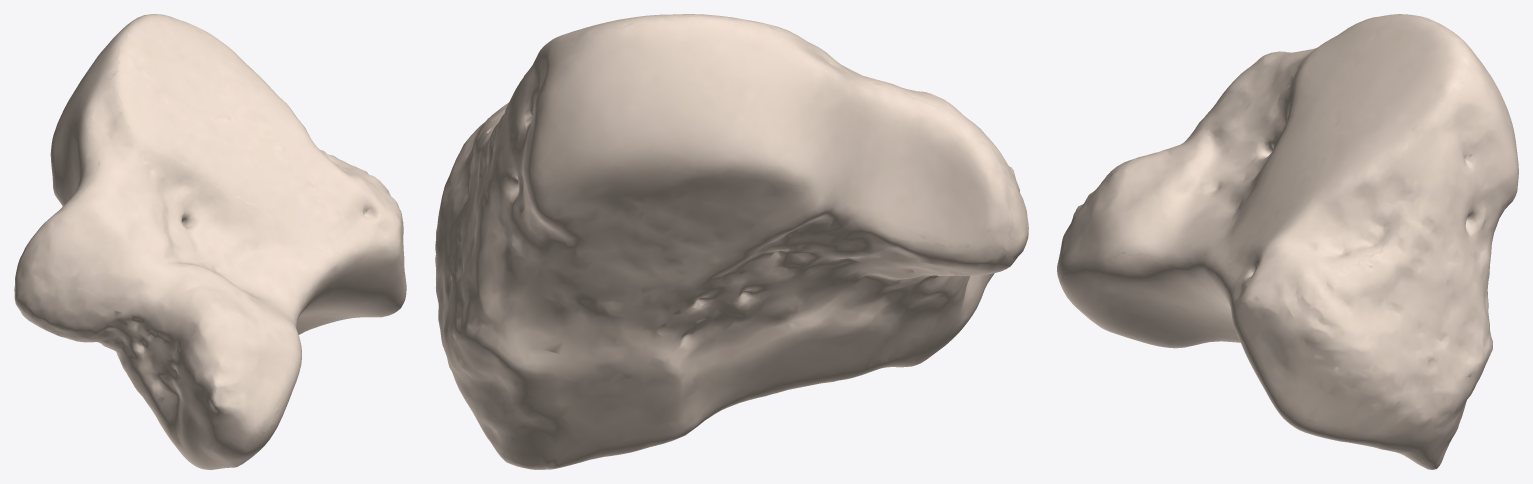
3 renders of one model, left to right at view 1: azimuth 30°, elevation 25°; view 2: azimuth 150°, elevation 25°; view 3: azimuth 270°, elevation 25°, orthographic. The views are drawn at different scales.
Parts seen in each view (by area): view 1: Os carpale quartum_re_Katze.001; view 2: Os carpale quartum_re_Katze.001; view 3: Os carpale quartum_re_Katze.001.
Part boxes in pixels (left/top/right/bottom): Os carpale quartum_re_Katze.001: left=14, top=14, right=406, bottom=469; Os carpale quartum_re_Katze.001: left=435, top=14, right=1028, bottom=469; Os carpale quartum_re_Katze.001: left=1057, top=14, right=1518, bottom=469.
Bounding box in the file's own units: 741 × 644 × 698.
1 material, 1 textured.
